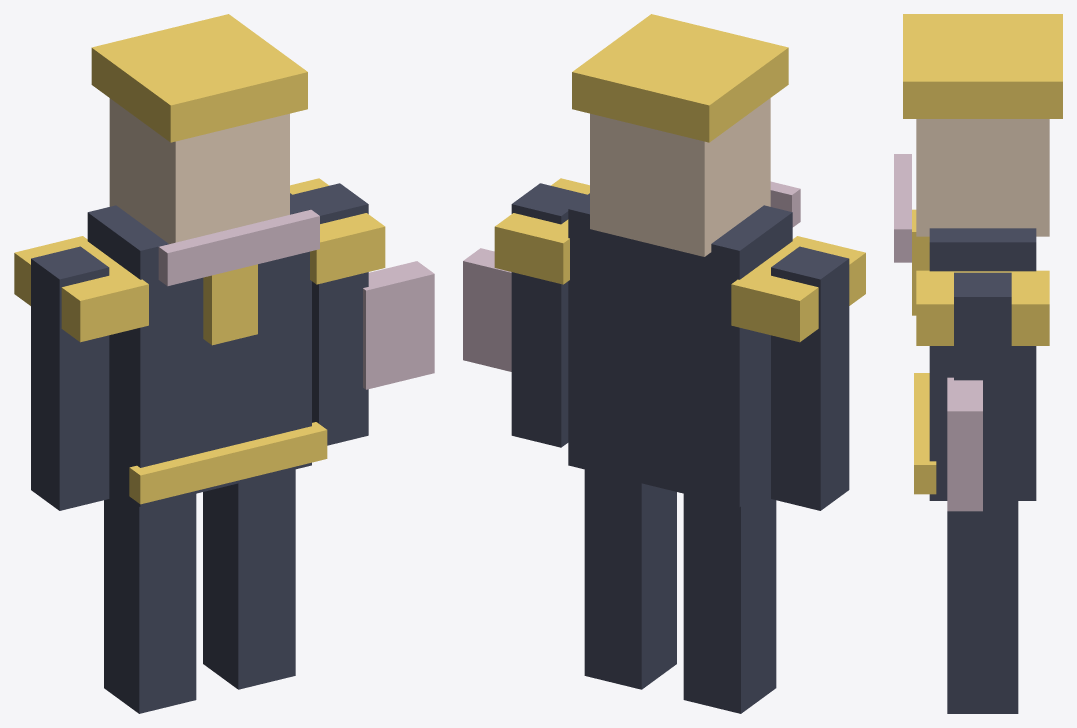
The model's file is 01_orin_trenchmark_warden_of_bazaar.glb.
3 renders of one model, left to right at view 1: azimuth 30°, elevation 25°; view 2: azimuth 150°, elevation 25°; view 3: azimuth 270°, elevation 25°, orthographic.
Visible parts, largest first — view 1: Orin Trenchmark, Warden of Bazaar; view 2: Orin Trenchmark, Warden of Bazaar; view 3: Orin Trenchmark, Warden of Bazaar.
Part boxes in pixels (box(x1,y1,x2,y2)): Orin Trenchmark, Warden of Bazaar: box(14, 14, 434, 713); Orin Trenchmark, Warden of Bazaar: box(463, 14, 865, 713); Orin Trenchmark, Warden of Bazaar: box(894, 14, 1062, 713).
Size of the model in its own units: 1.05 by 1.68 by 0.4095.
